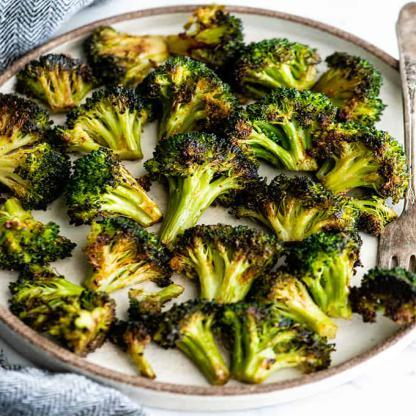broccoli: (0, 1, 415, 384)
